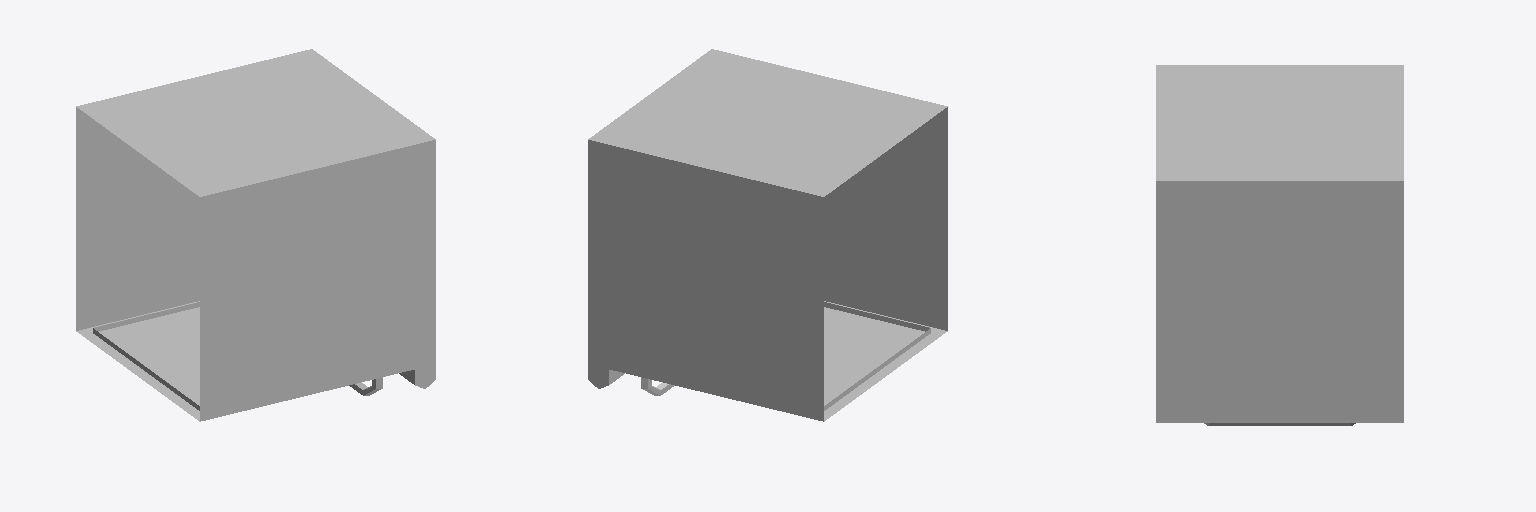
The model's file is kitchenDishwasher.obj.
3 renders of one model, left to right at view 1: azimuth 30°, elevation 25°; view 2: azimuth 150°, elevation 25°; view 3: azimuth 270°, elevation 25°, orthographic.
Parts seen in each view (by area): view 1: Cube.001; view 2: Cube.001; view 3: Cube.001.
Part boxes in pixels (x1,y1,x2,y2): Cube.001: (76, 49, 435, 421); Cube.001: (588, 49, 947, 421); Cube.001: (1156, 65, 1403, 425).
Size of the model in its own units: 11 by 11.84 by 10.